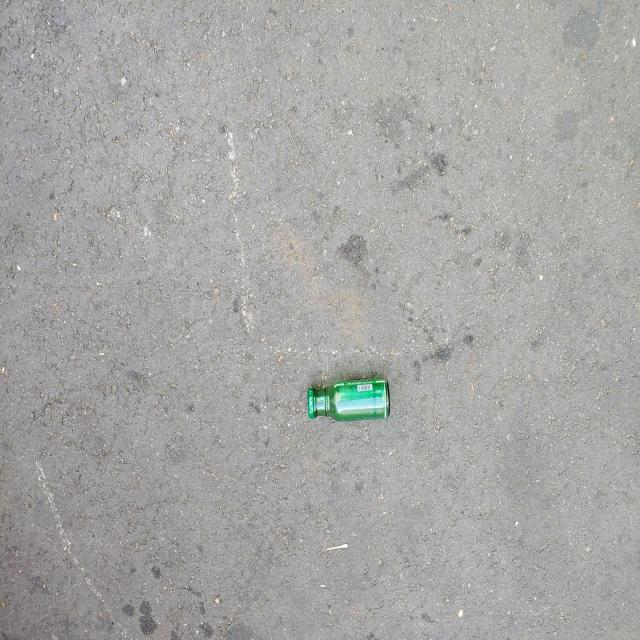glass: (308, 379, 390, 421)
